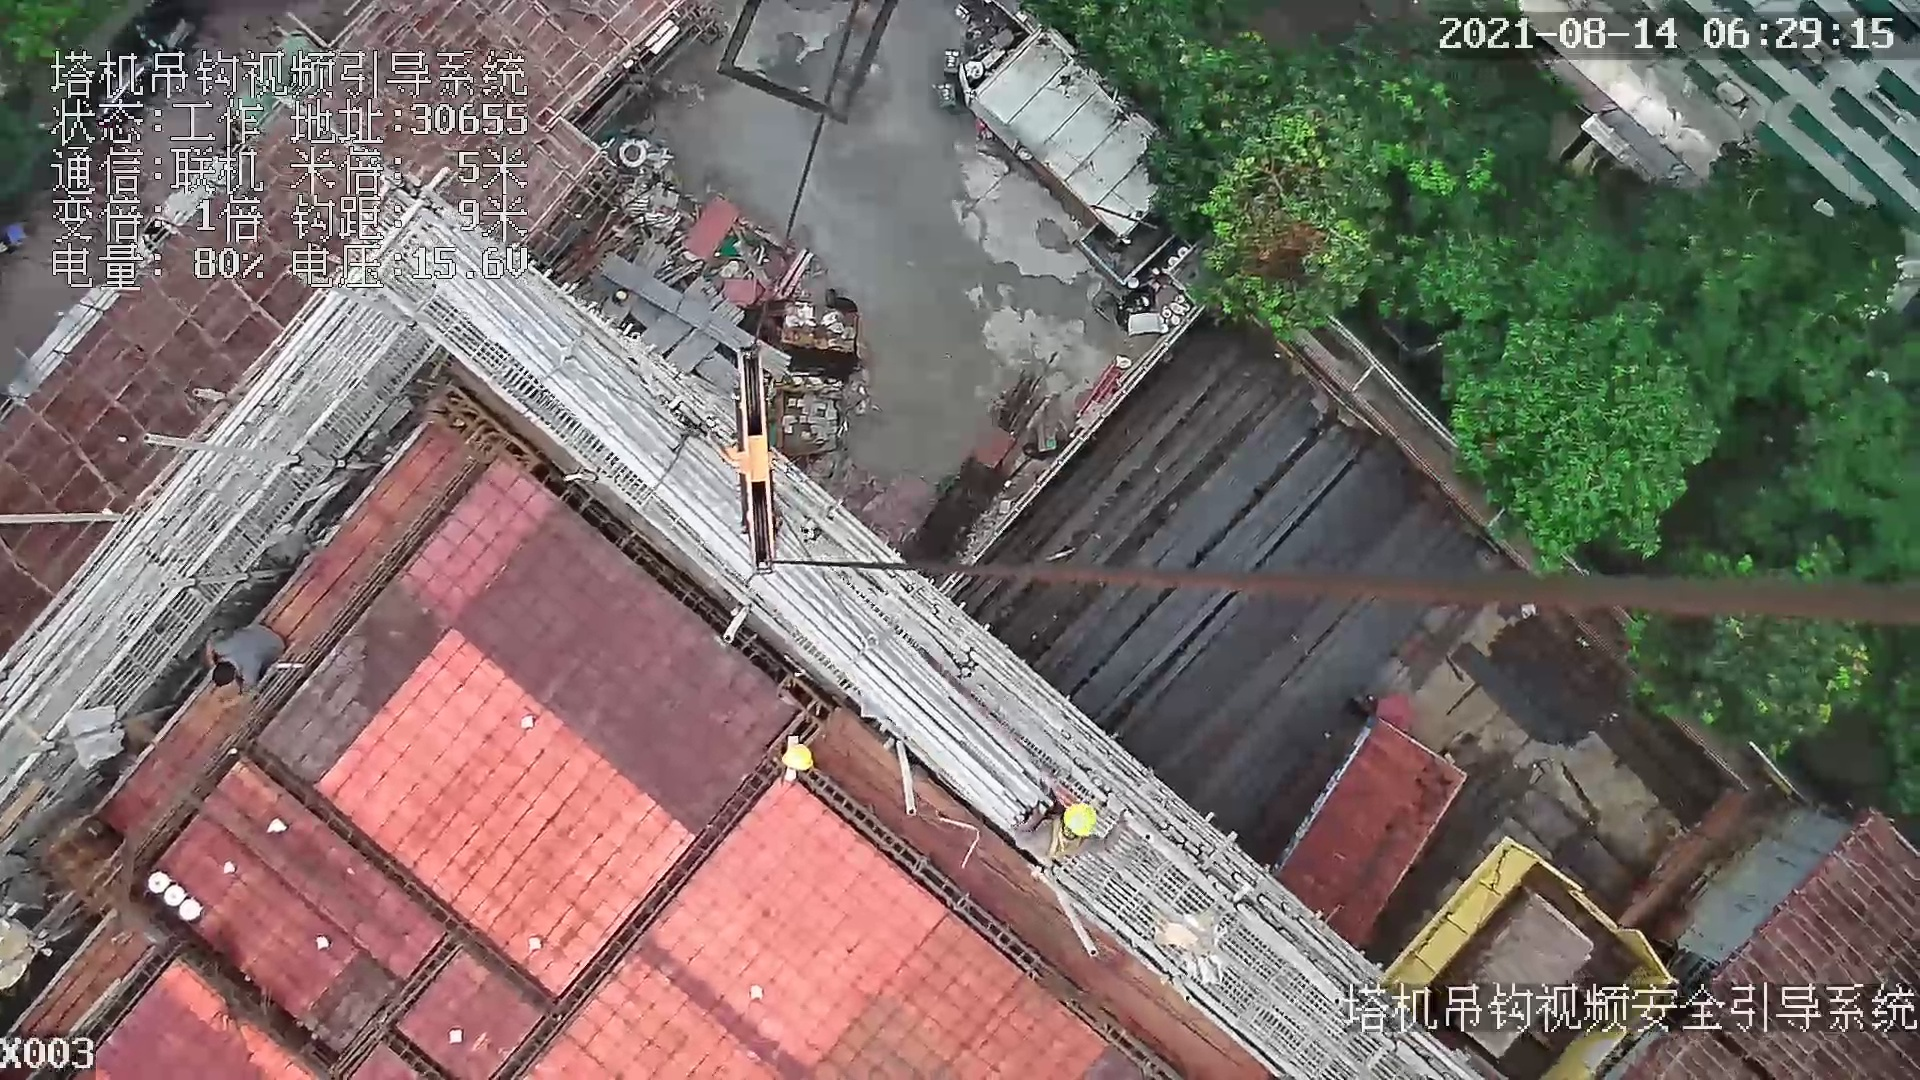helmet: (1063, 797, 1104, 845), (779, 741, 822, 777)
hook: (727, 345, 783, 574)
person: (1008, 776, 1133, 873)
rebar: (960, 324, 1497, 797)
